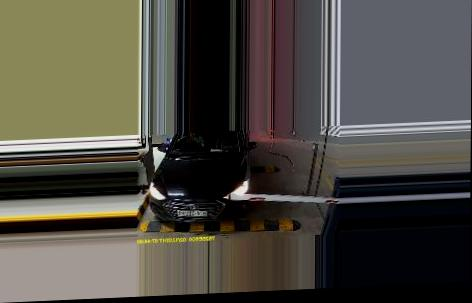License_Plate: (174, 207, 208, 220)
